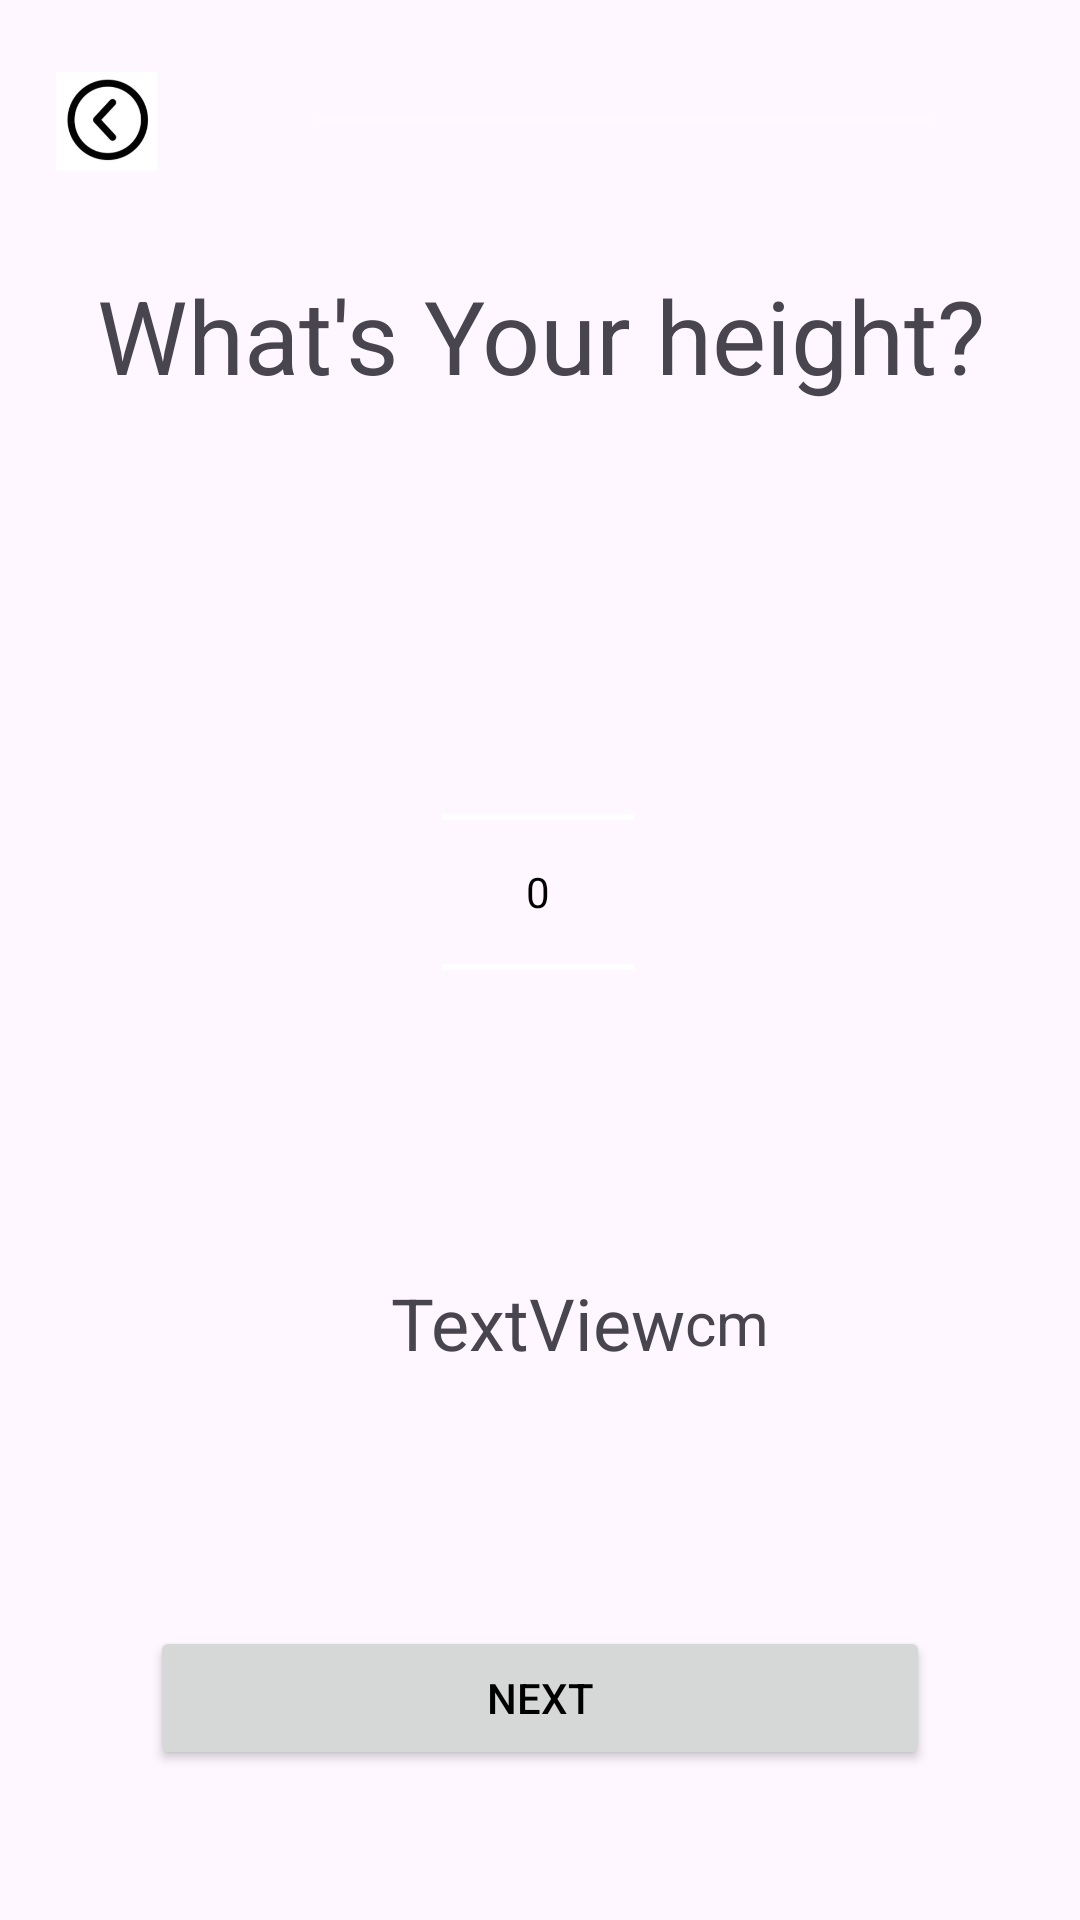

Icon click points for this 1080px x 1920px phone screenshot, format (x,y):
back: (107,119)
